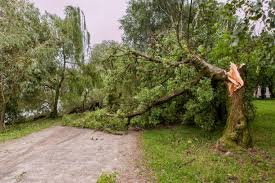obstacle: (74, 79, 167, 130)
